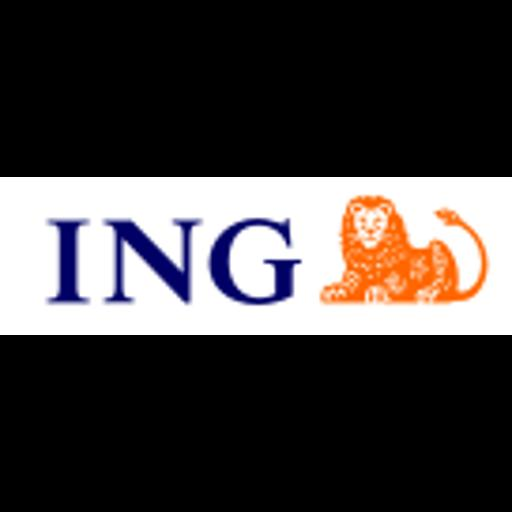ING: (0, 177, 512, 335)
